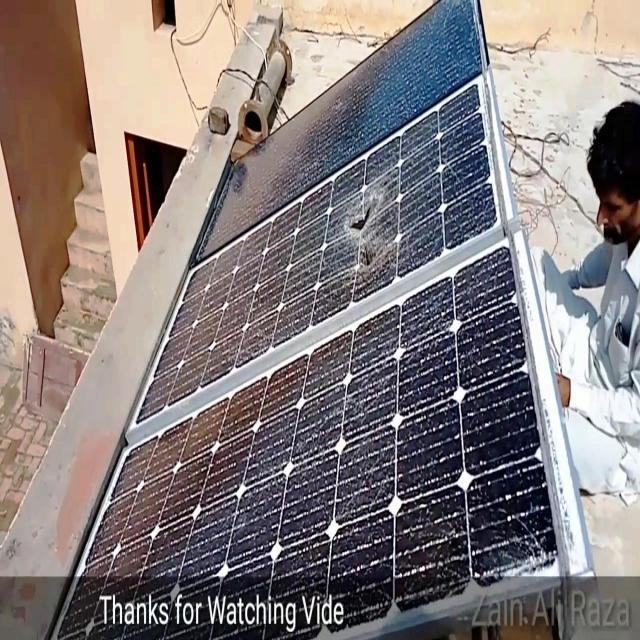faulty: (48, 234, 560, 638), (122, 70, 512, 432)
